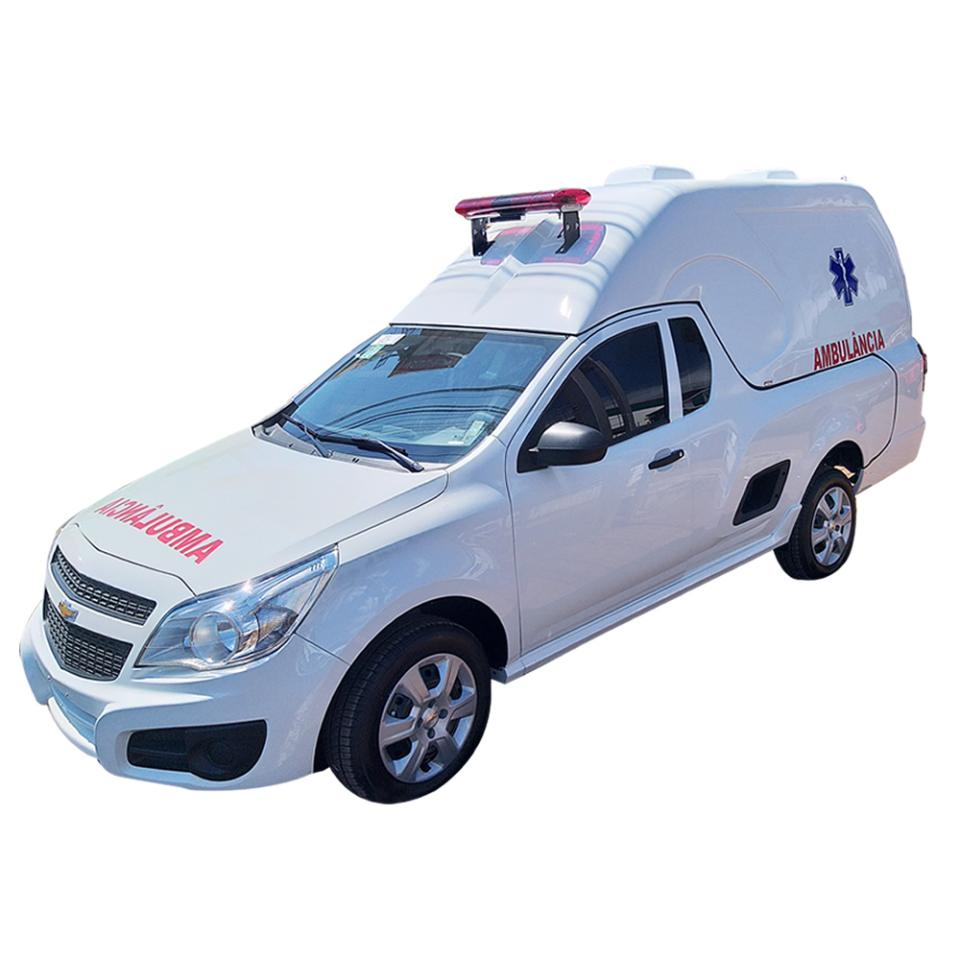bombeiro: (20, 164, 930, 807)
